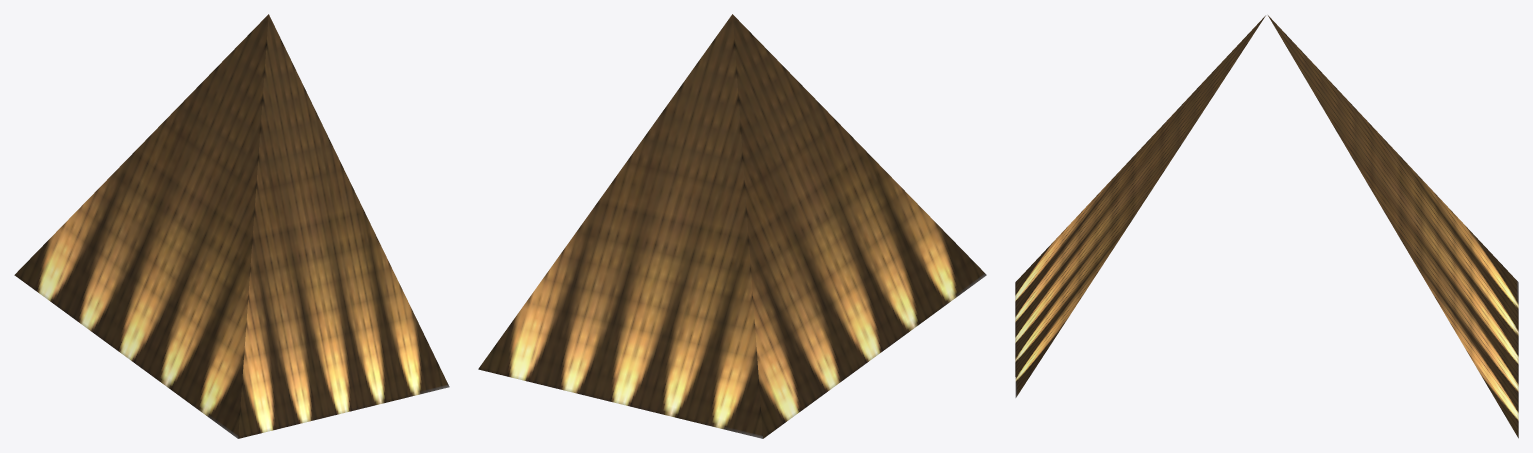
File: piramid.glb
The picture shows the model from 3 angles, left to right: view 1: azimuth 30°, elevation 25°; view 2: azimuth 150°, elevation 25°; view 3: azimuth 270°, elevation 25°; orthographic projection. The views are drawn at different scales.
Visible parts, largest first — view 1: piramid; view 2: piramid; view 3: piramid.
Part boxes in pixels (x1=…): piramid: x1=14, y1=14, x2=449, y2=438; piramid: x1=478, y1=14, x2=986, y2=438; piramid: x1=1015, y1=15, x2=1518, y2=438.
Size of the model in its own units: 2592 by 2678 by 3525.
Materials: 1 (1 with a texture image).
